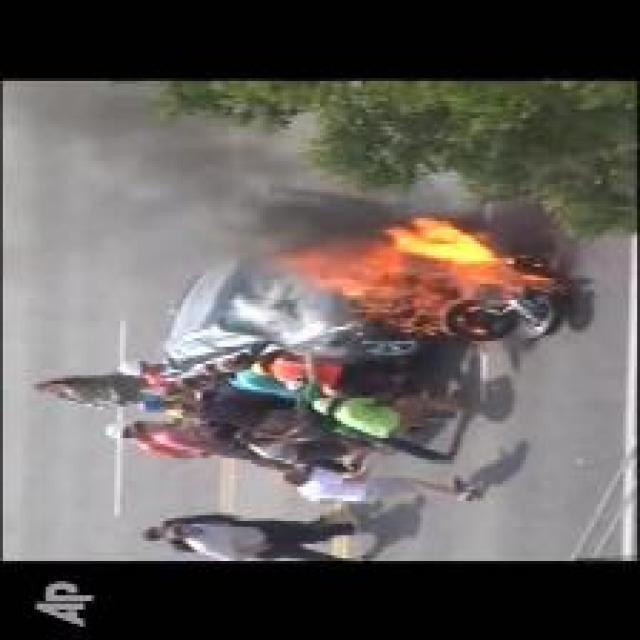Fire: (268, 215, 554, 328)
